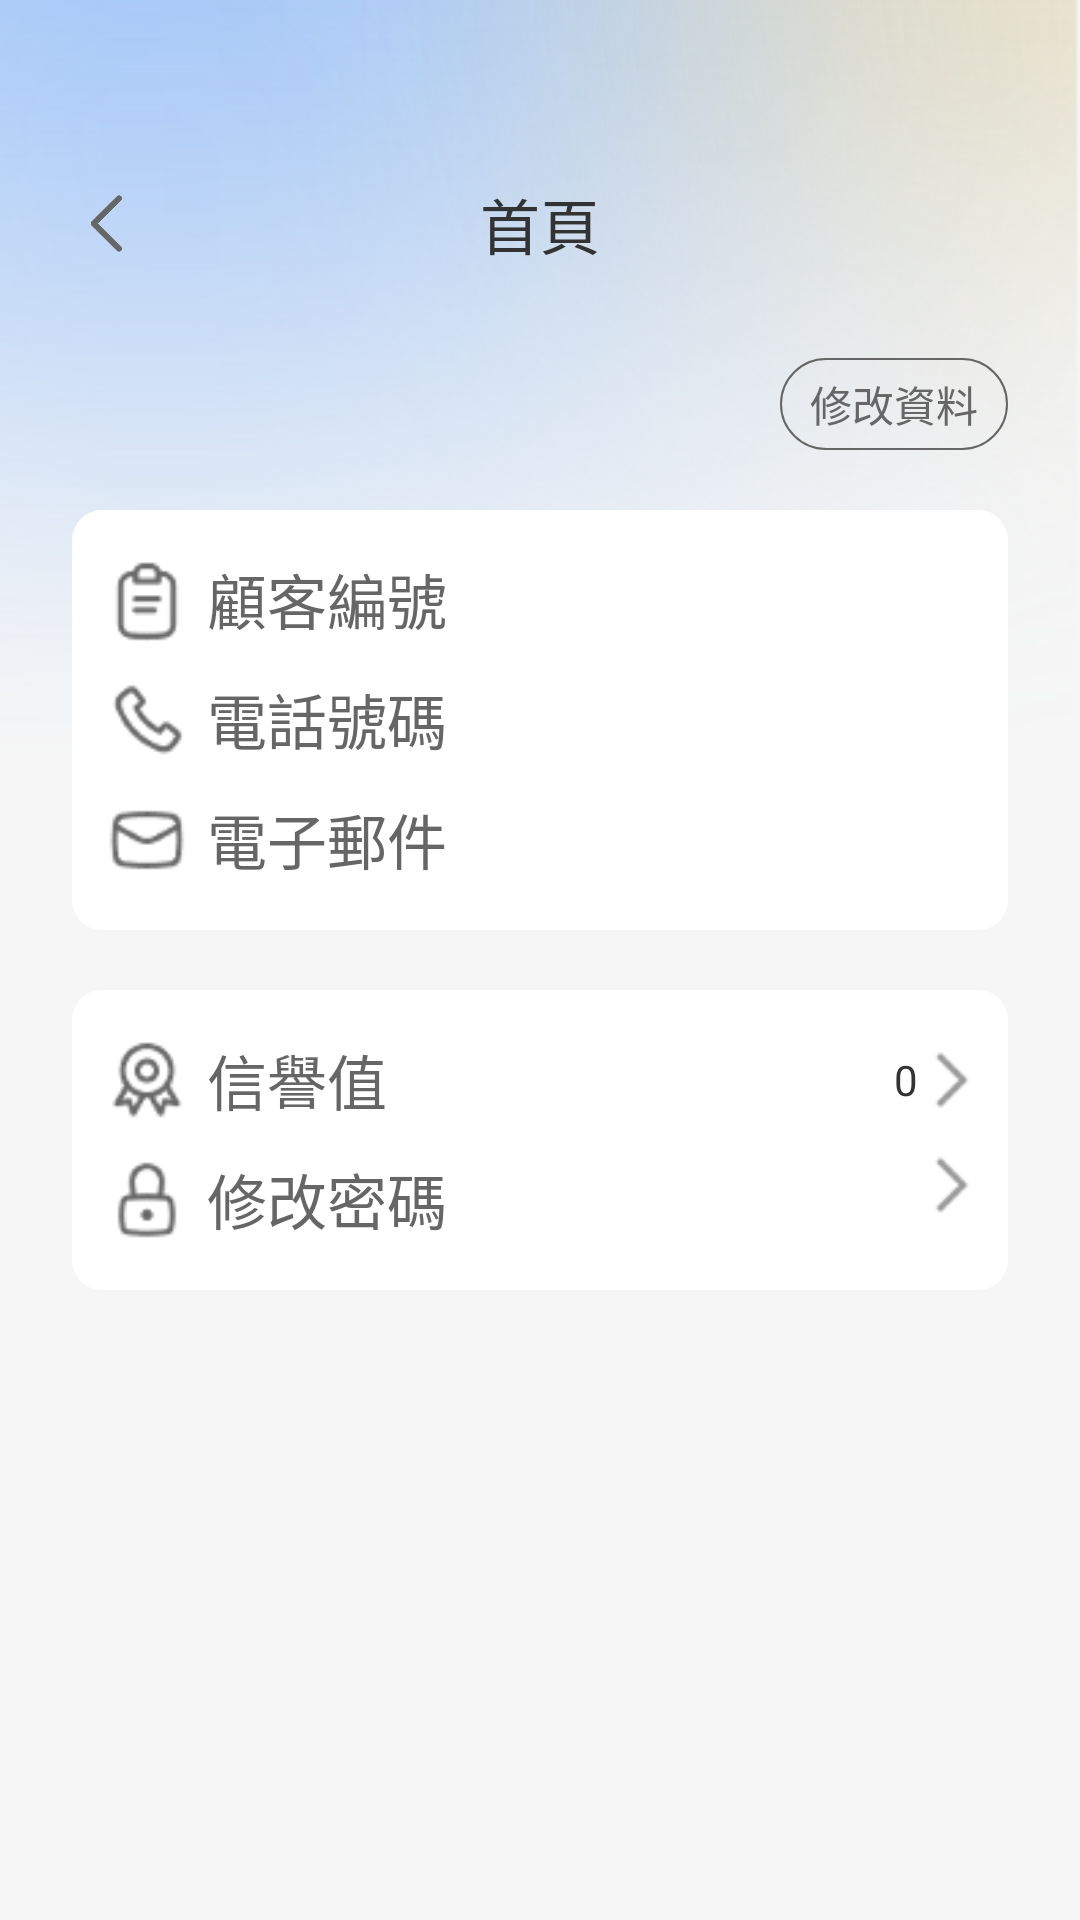

Screen size 1080px×1920px. Icon name, then its box in pixels as bbox=[x1, y1, x2, y2]:
arrow right: bbox=[936, 1053, 968, 1107], bbox=[936, 1158, 968, 1212]
back: bbox=[91, 195, 122, 252]
